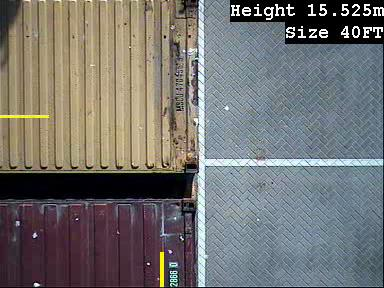groundmarker_2: (162, 186, 255, 254)
